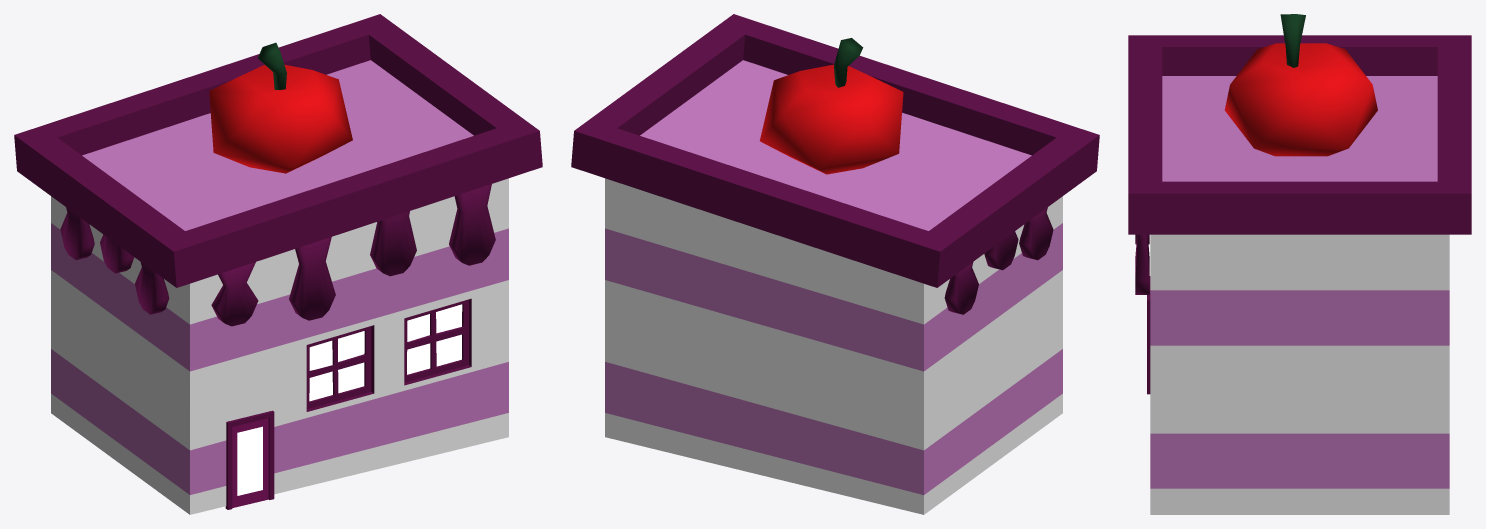
Rendered from Cake House.fbx.
3 views of the same model, side by side, from view 1: azimuth 30°, elevation 25°; view 2: azimuth 150°, elevation 25°; view 3: azimuth 270°, elevation 25° (orthographic). The views are drawn at different scales.
Visible parts, largest first — view 1: Cake house; view 2: Cake house; view 3: Cake house.
Boxes of the visible parts, x1,y1,x2,y2 form: Cake house: (14, 14, 542, 514); Cake house: (571, 14, 1099, 514); Cake house: (1128, 14, 1471, 514).
Bounding box in the file's own units: 1831 × 1840 × 1371.
